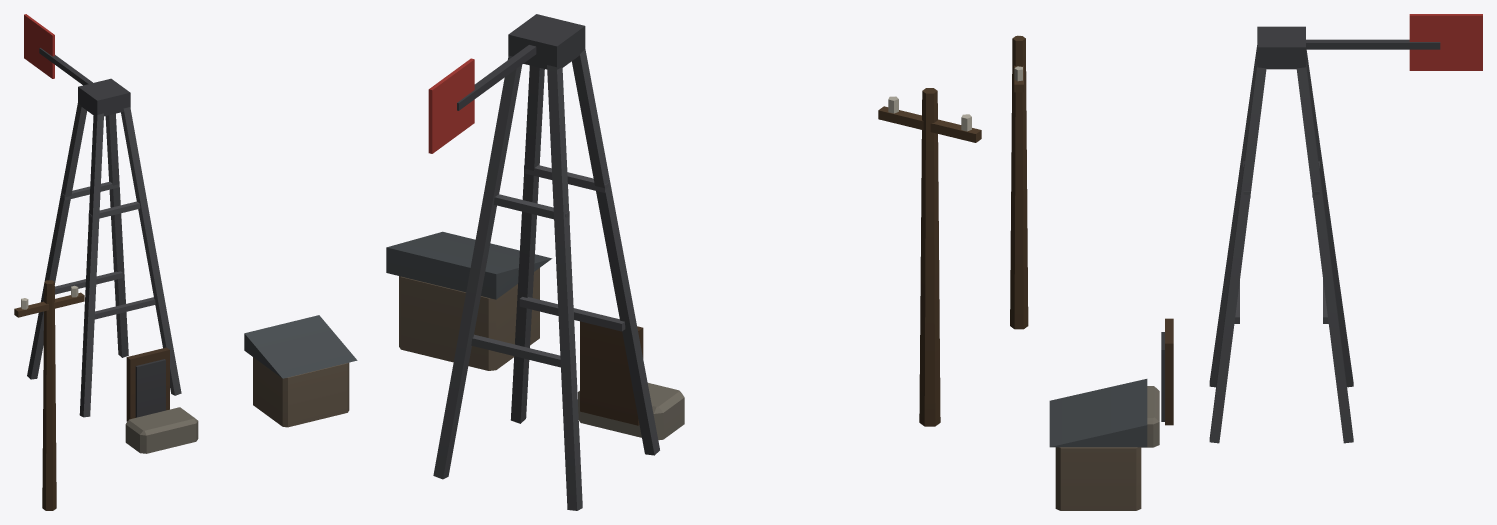
Rendered from windgen.glb.
The picture shows the model from 3 angles, left to right: view 1: azimuth 30°, elevation 25°; view 2: azimuth 150°, elevation 25°; view 3: azimuth 270°, elevation 25°; orthographic projection. The views are drawn at different scales.
Visible parts, largest first — view 1: windgen_model; view 2: windgen_model; view 3: windgen_model.
Part boxes in pixels (bbox=[...]): windgen_model: bbox=[14, 14, 357, 510]; windgen_model: bbox=[386, 14, 981, 510]; windgen_model: bbox=[1010, 14, 1482, 510].
Bounding box in the file's own units: 0.85 × 0.75 × 0.775.
